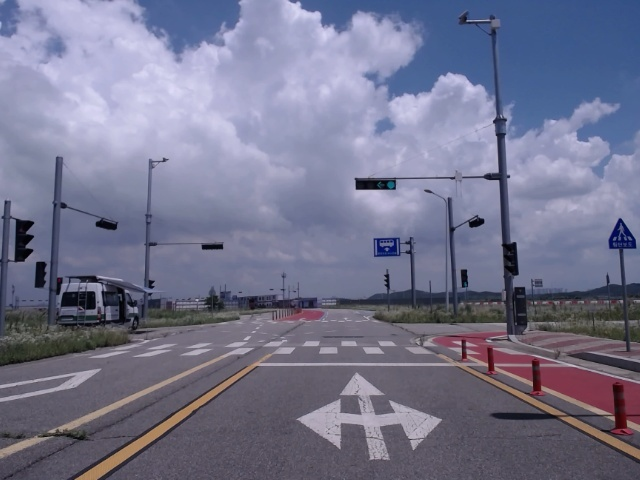all_green_4: (354, 179, 395, 190)
